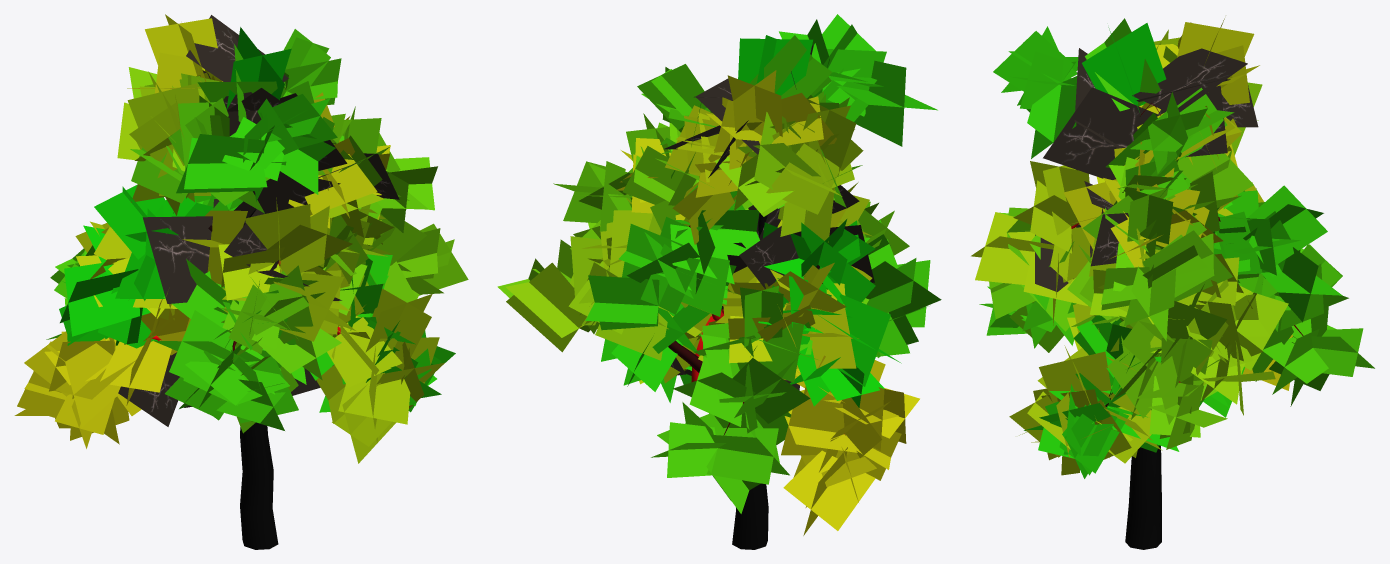
Rendered from linden2 lod0.FBX.
3 renders of one model, left to right at view 1: azimuth 30°, elevation 25°; view 2: azimuth 150°, elevation 25°; view 3: azimuth 270°, elevation 25°, orthographic.
Visible parts, largest first — view 1: linden2; view 2: linden2; view 3: linden2.
Boxes of the visible parts, x1=… form: linden2: x1=14, y1=14, x2=468, y2=549; linden2: x1=497, y1=14, x2=941, y2=549; linden2: x1=971, y1=18, x2=1374, y2=549.
Size of the model in its own units: 120899 by 146125 by 105049.
